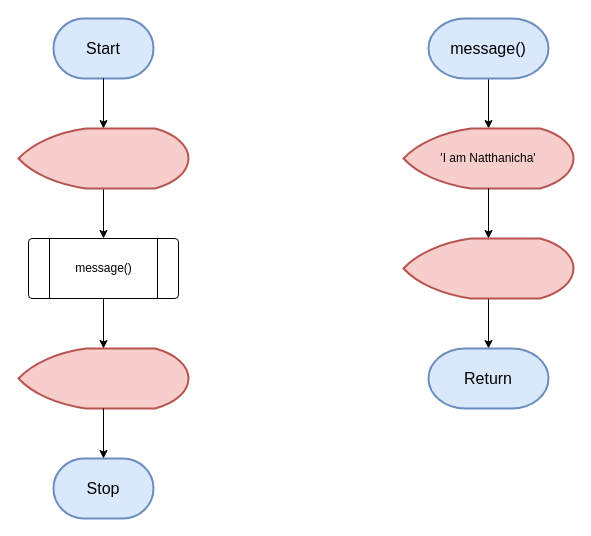
Some shapes in this 591 by 536 pixel diagram are drawn without their labels. Here are the shapes that lost their labels. From the top down, the centre of each, then its label:
At pixel 103 158: "'Peanat'".
At pixel 488 268: "'Natee'".
At pixel 103 378: "'Goodbye!'".
